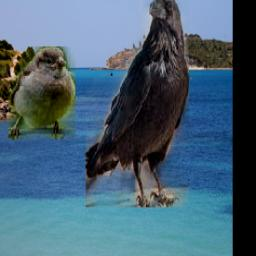Crow: (85, 0, 188, 208)
Sparrow: (8, 46, 75, 139)
